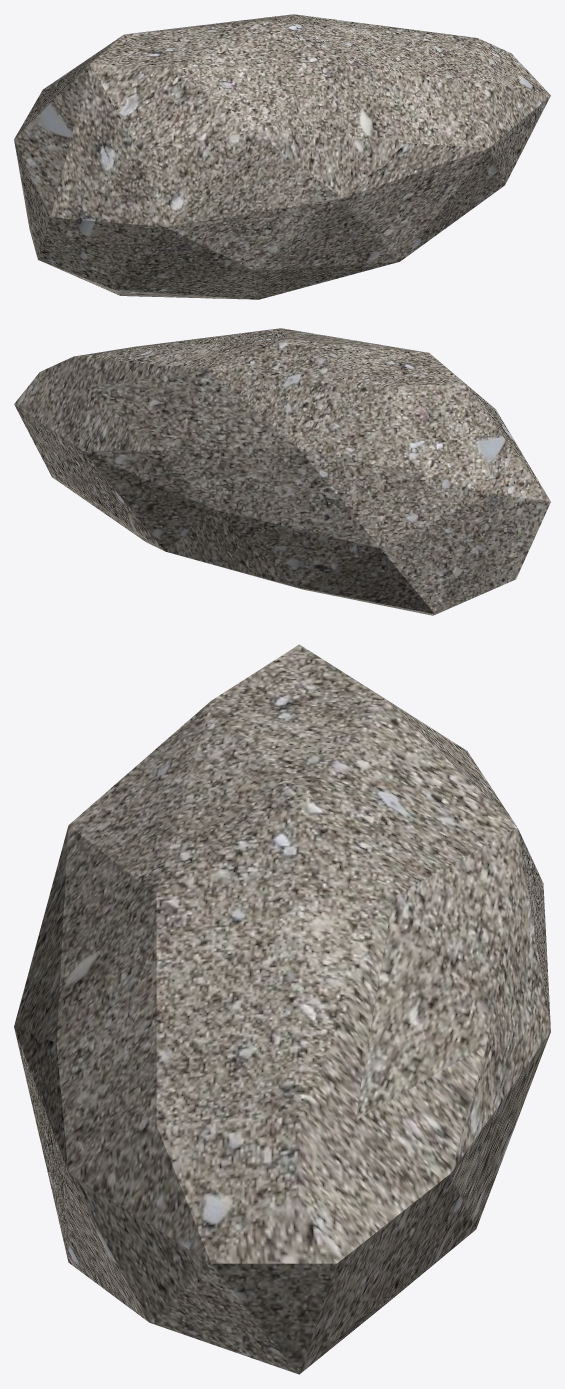
File: sandparticle.fbx
The picture shows the model from 3 angles, top to bottom: view 1: azimuth 30°, elevation 25°; view 2: azimuth 150°, elevation 25°; view 3: azimuth 270°, elevation 25°; orthographic projection. The views are drawn at different scales.
Parts seen in each view (by area): view 1: Icosphere; view 2: Icosphere; view 3: Icosphere.
Part boxes in pixels (bbox=[...]): Icosphere: bbox=[14, 14, 550, 299]; Icosphere: bbox=[14, 328, 550, 615]; Icosphere: bbox=[14, 644, 550, 1374].
Bounding box in the file's own units: 0.095 × 0.0435 × 0.0476.
